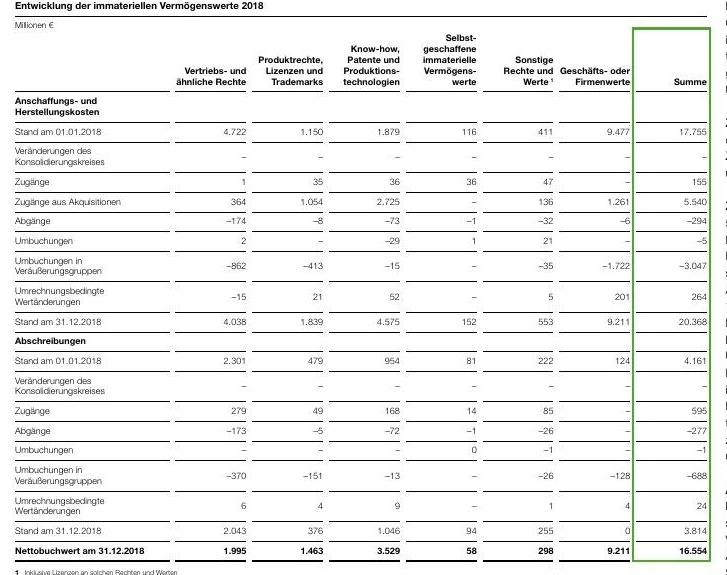table: (0, 0, 727, 575)
